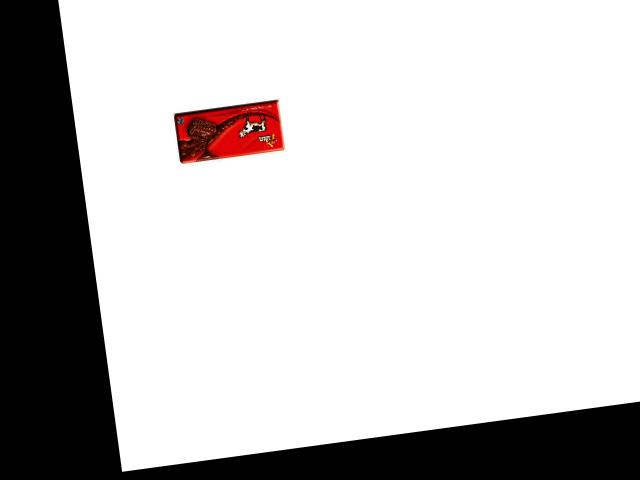chocolate: (171, 109, 276, 175)
